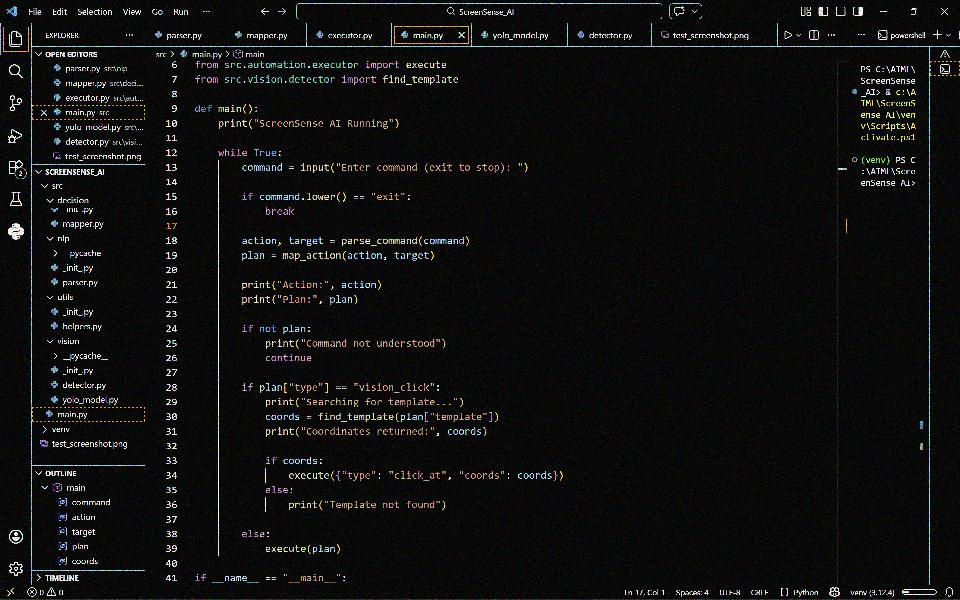close_button: (933, 2, 958, 20)
maximize_button: (905, 2, 924, 21)
minimize_button: (873, 2, 894, 22)
